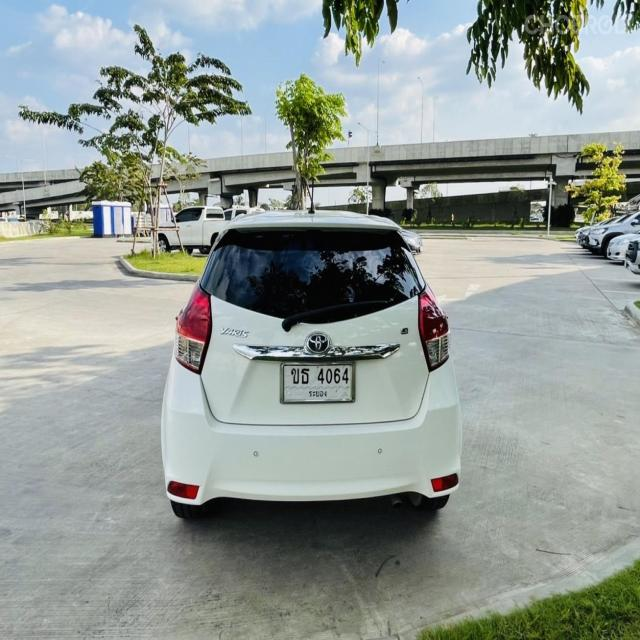license_plate: (279, 361, 357, 406)
